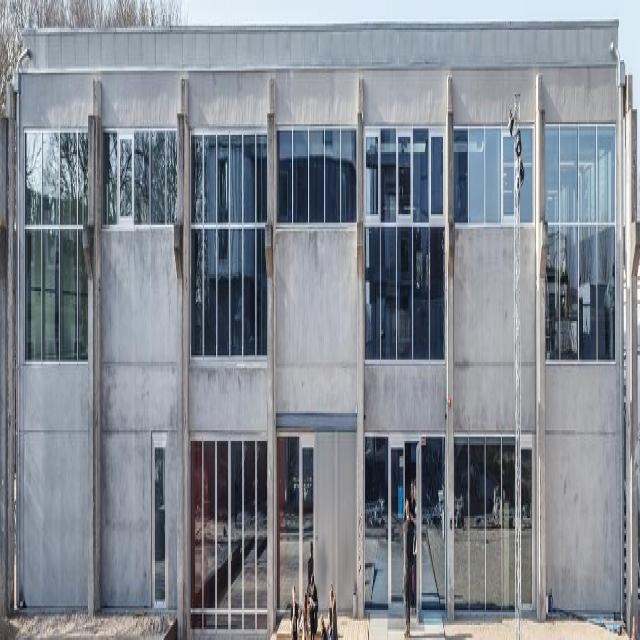door: (387, 438, 422, 601), (298, 434, 314, 600), (151, 435, 167, 601)
window: (362, 124, 445, 357), (190, 121, 266, 356), (544, 120, 615, 358), (23, 125, 87, 363), (454, 430, 534, 615), (189, 435, 268, 621), (452, 120, 533, 224), (274, 127, 356, 226), (101, 126, 174, 220), (423, 433, 445, 614), (365, 439, 388, 609), (278, 429, 299, 611)
